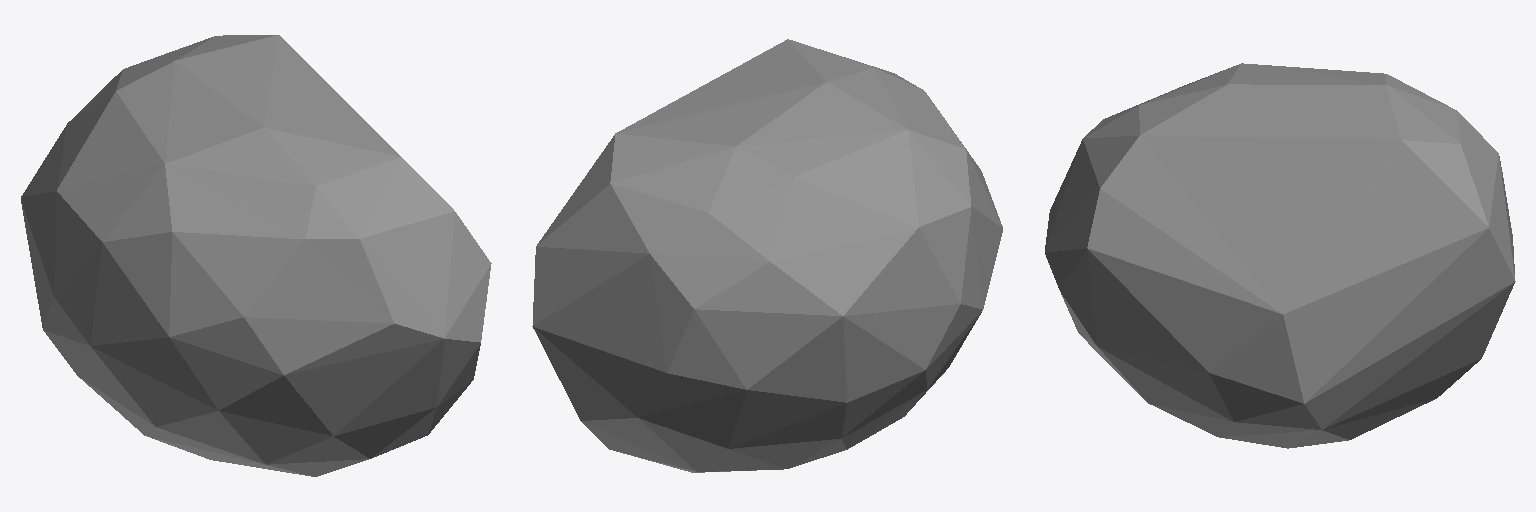
The robot description file, URDF, robot "lamp_trunk":
<?xml version="1.0"?>
<robot name="lamp_trunk">

  <material name="Blue"> <!-- for spheres -->
    <color rgba="0 0 1 0.5"/>
  </material>
  <material name="White">
    <color rgba="1 1 1 1"/>
  </material>
  <material name="Gray">
    <color rgba="0.6 0.6 0.6 0.4"/>
  </material>
  <material name="Green"> <!-- for ROMs -->
    <color rgba="0 1 0 0.4"/>
  </material>

  <link name="base_link"/>
  <joint name="base_link_J" type="fixed">
      <parent link="base_link"/>
      <child link="base_link_comshift"/>
      <origin rpy="0 0 3.14159265359" xyz="0 0 0"/>
   </joint>

  <link name="base_link_comshift"/>
  <joint name="base_link_comshift_J" type="fixed">
      <parent link="base_link_comshift"/>
      <child link="Head"/>
      <origin rpy="0 0 0" xyz="-0.023 0 0.245"/>
   </joint>

  <link name="Head">
      <inertial>
         <origin rpy="0 0 0" xyz="0 0 0"/>
         <mass value="1"/>
         <inertia ixx="0" ixy="0" ixz="0" iyy="0" iyz="0" izz="0"/>
      </inertial>
      <visual>
         <origin xyz="0 0 0" rpy="0 0 0"/>
         <geometry>
            <mesh filename="package://hpp-rbprm-corba/meshes/lamp/Head_view.dae"/>
         </geometry>
		 <material name="Gray"/>
      </visual>
      <collision>
         <origin xyz="0 0 0" rpy="0 0 0"/>
         <geometry>
            <mesh filename="package://hpp-rbprm-corba/meshes/lamp/Head_box.stl"/>
         </geometry>
      </collision>
   </link>

   <link name="HeadLink">
      <inertial>
         <origin rpy="0 0 0" xyz="0 0 0"/>
         <mass value="0"/>
         <inertia ixx="0" ixy="0" ixz="0" iyy="0" iyz="0" izz="0"/>
      </inertial>
      <visual>
         <origin xyz="0 0 0" rpy="0 0 0"/>
         <geometry>
            <mesh filename="package://hpp-rbprm-corba/meshes/lamp/HeadLink.stl"/>
         </geometry>
		 <material name="White"/>
      </visual>
      <!-- included in Head_box -->
      <!--<collision>
         <origin xyz="0 0 0" rpy="0 0 0"/>
         <geometry>
            <mesh filename="package://hpp-rbprm-corba/meshes/lamp/HeadLink.stl"/> 
         </geometry>
      </collision>-->
   </link>

  <joint name="head_rom_joint" type="fixed">
      <parent link="HeadLink"/>
      <child link="head_rom"/>
      <origin rpy="0 0 0" xyz="0 0 0"/>
   </joint>

  <link name="head_rom">
      <visual>
         <origin xyz="0 0 0" rpy="0 0 0"/>
         <geometry>
            <mesh filename="package://hpp-rbprm-corba/meshes/lamp/foot_rom.stl"/>
         </geometry>
         <material name="Gray"/>
      </visual>
   </link>

   <!-- JOINTS -->
   <joint name="Head" type="fixed">
      <parent link="Head"/>
      <child link="HeadLink"/>
      <origin rpy="0 0 0" xyz="0.0912 -0.0012 -0.0501"/>
   </joint>

</robot>

--- Render facts (derived) ---
3 views of the same robot in one strip: view 1: azimuth 30°, elevation 25°; view 2: azimuth 150°, elevation 25°; view 3: azimuth 270°, elevation 25° (orthographic).
Robot: lamp_trunk — 5 links, 4 joints (4 fixed); root link base_link; default pose: all joints at 0.
Links seen in each view (by area): view 1: head_rom; view 2: head_rom; view 3: head_rom.
Link boxes in pixels (x1,y1,x2,y2): head_rom: (21, 35, 491, 476); head_rom: (532, 39, 1002, 472); head_rom: (1045, 63, 1515, 448).
Size in the robot's own frame: 1.07 by 1.25 by 0.94 metres.
2 mesh visuals loaded from 3 distinct referenced files (2 binary STL); not drawn: 1 (reference not matched to a file when rendering).